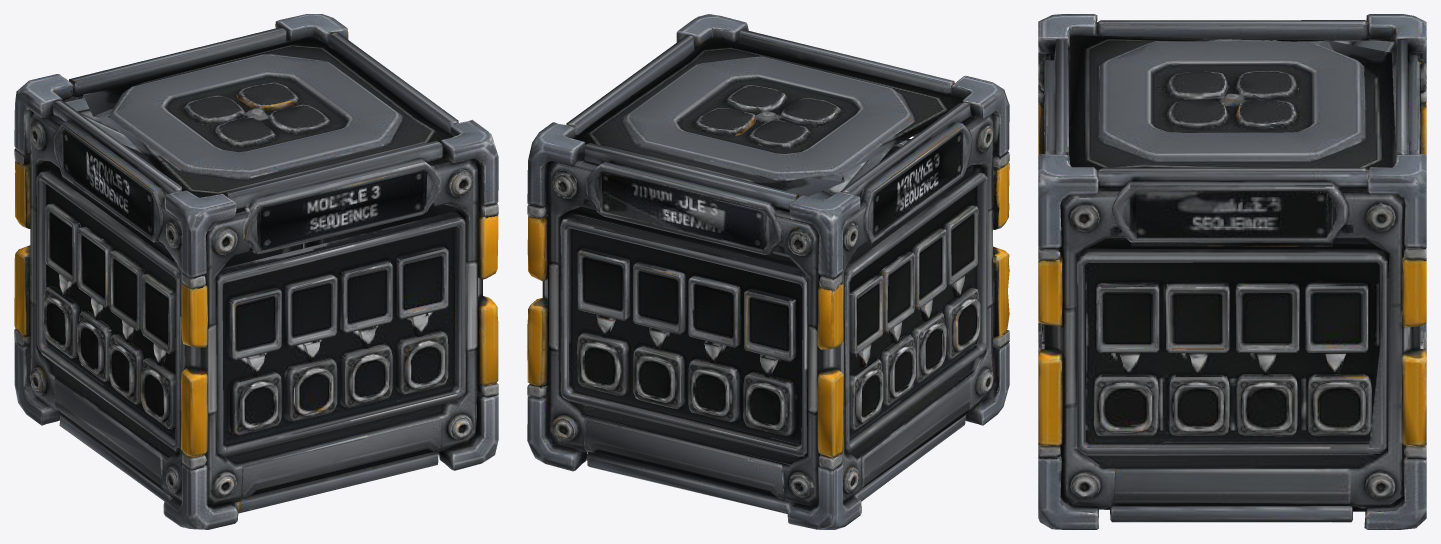
File: SequenceBox.glb
3 views of the same model, side by side, from view 1: azimuth 30°, elevation 25°; view 2: azimuth 150°, elevation 25°; view 3: azimuth 270°, elevation 25° (orthographic). The views are drawn at different scales.
Bounding box in the file's own units: 1 × 1 × 1.
1 material, 1 textured.
